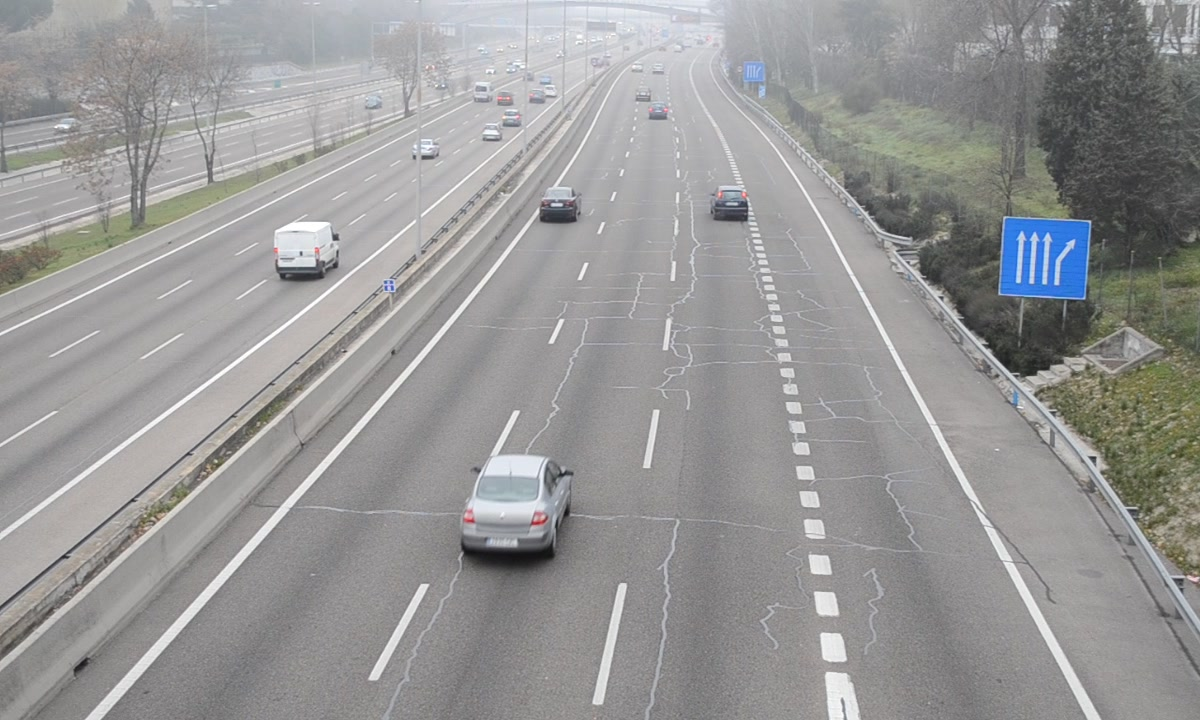car: (462, 456, 570, 558), (538, 186, 579, 221), (711, 185, 747, 217)
